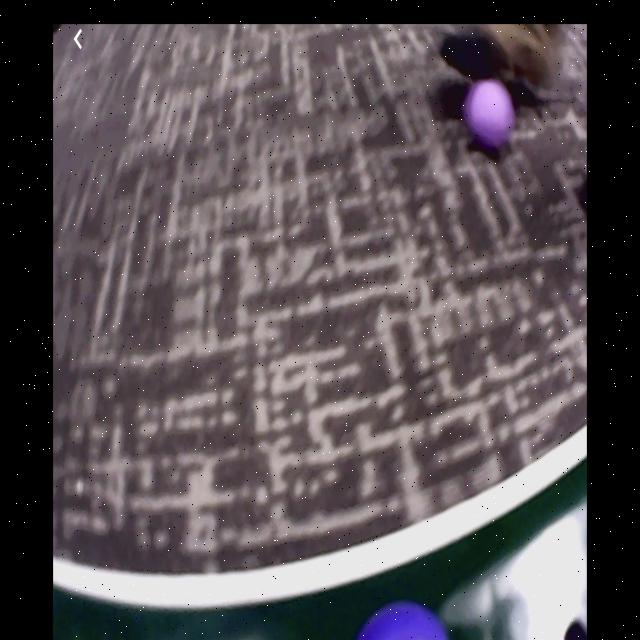ball: (358, 603, 453, 640), (464, 80, 514, 147)
